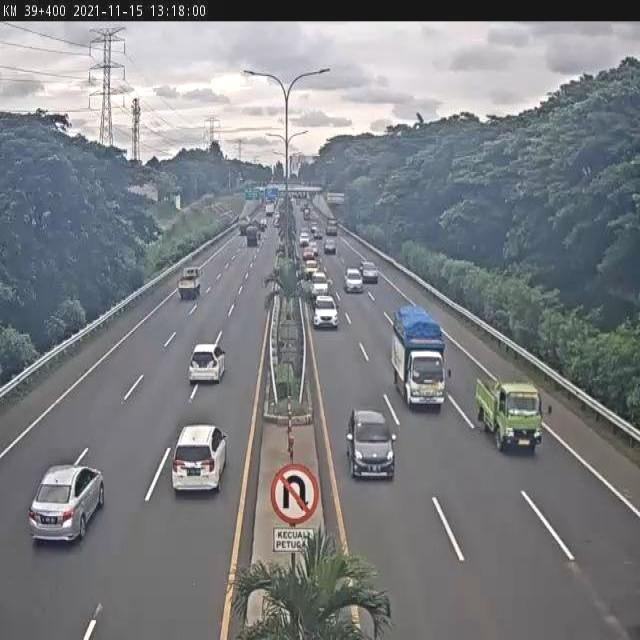Car: (30, 463, 106, 547), (172, 423, 228, 492), (346, 408, 396, 480), (188, 343, 226, 384), (312, 293, 339, 329), (344, 268, 364, 293), (310, 275, 329, 298), (361, 262, 378, 284), (303, 258, 319, 278), (324, 238, 336, 255), (303, 247, 315, 262), (300, 232, 310, 247)
Truck: (393, 306, 450, 407), (474, 378, 546, 450), (178, 266, 202, 298), (247, 225, 258, 246)
